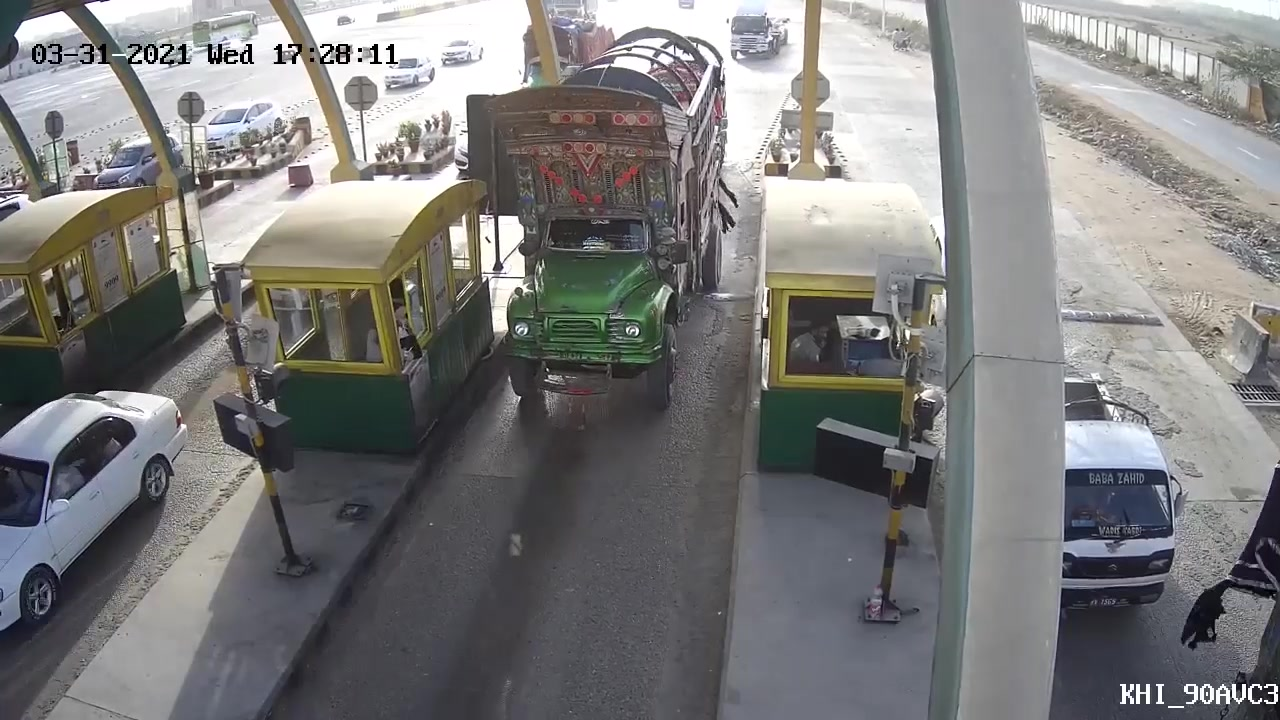F5: (487, 40, 741, 421)
